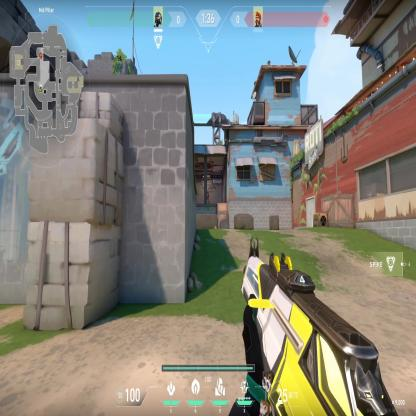enemy: (206, 188, 210, 203)
